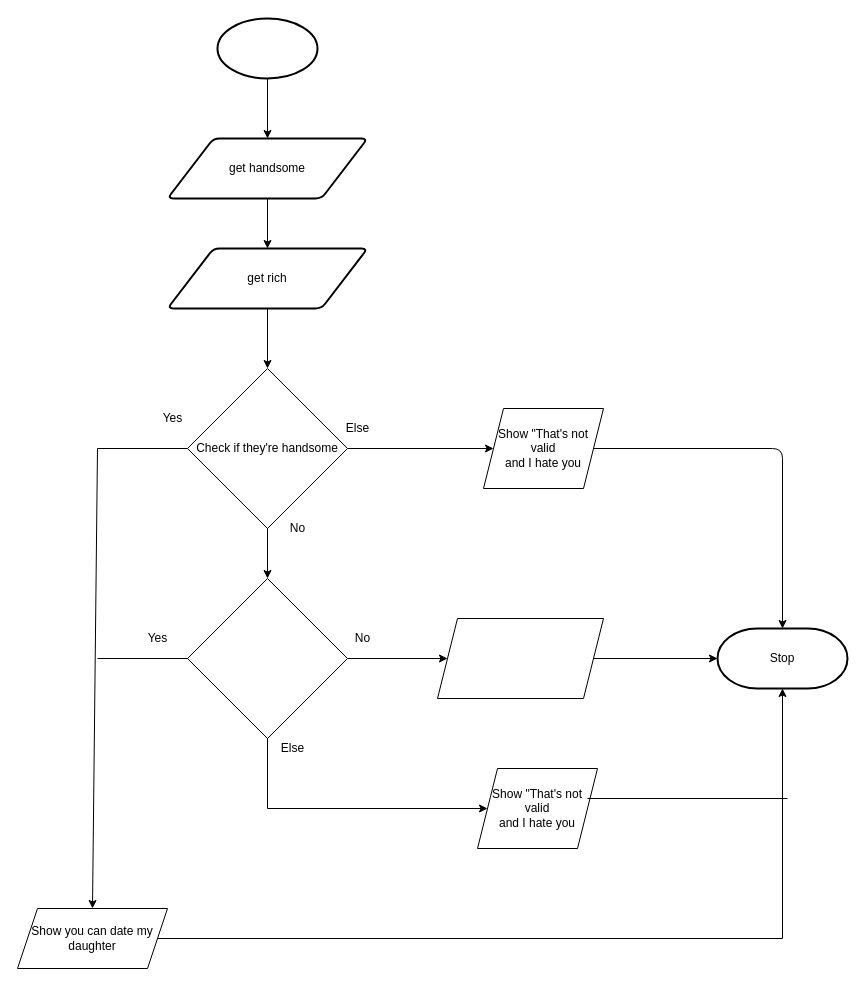
Image size: 866x986. Some labels were removed from this diagram. Each missing label, with the centre of its shape:
Check if they're rich: [267,658]
Show "You can't date my daughter": [520,658]
Start: [267,48]
